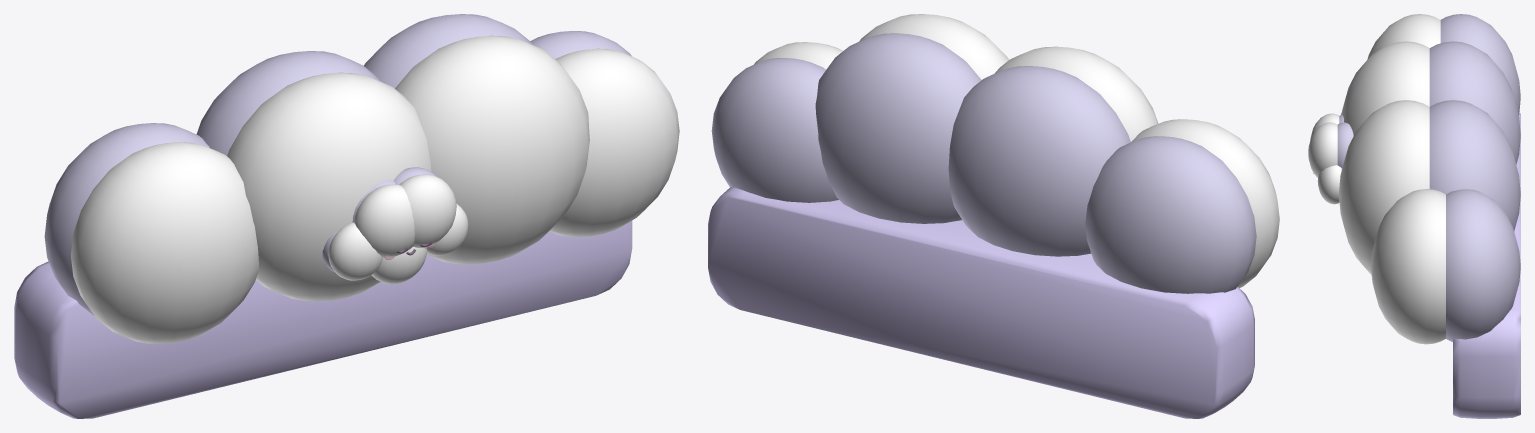
The model's file is decor_1_classic.glb.
The picture shows the model from 3 angles, left to right: view 1: azimuth 30°, elevation 25°; view 2: azimuth 150°, elevation 25°; view 3: azimuth 270°, elevation 25°; orthographic projection. The views are drawn at different scales.
Visible parts, largest first — view 1: decor_1_classic; view 2: decor_1_classic; view 3: decor_1_classic.
Part boxes in pixels (x1,y1,x2,y2): decor_1_classic: (14,14,679,418); decor_1_classic: (708,14,1279,418); decor_1_classic: (1308,14,1520,418).
Bounding box in the file's own units: 19.94 × 9.94 × 7.66.
